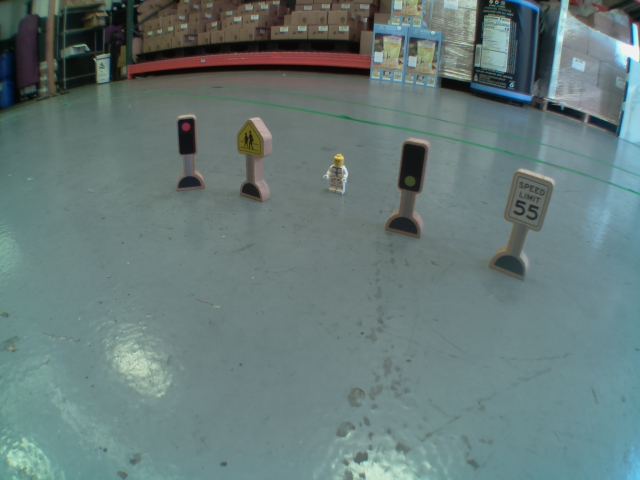Green Traffic Light: (397, 139, 432, 192)
Red Traffic Light: (175, 114, 200, 157)
Speed Limit 55: (504, 168, 552, 231)
YIELD: (234, 120, 268, 159)
person: (322, 152, 352, 195)
